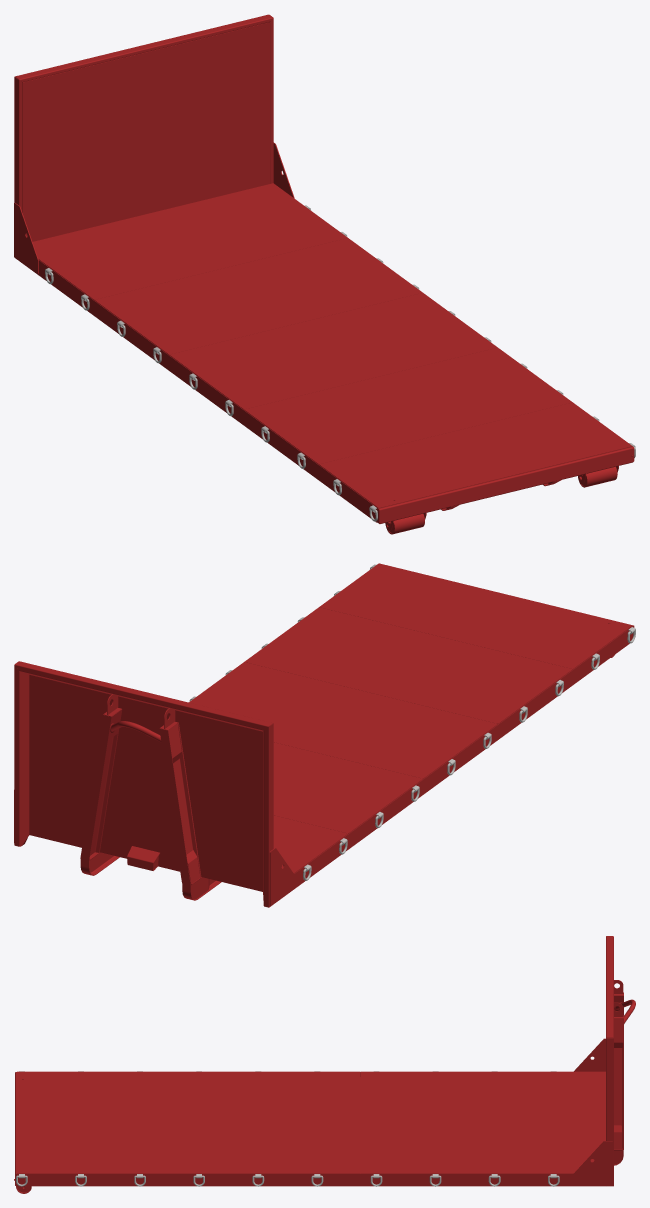
The picture shows the model from 3 angles, top to bottom: view 1: azimuth 30°, elevation 25°; view 2: azimuth 150°, elevation 25°; view 3: azimuth 270°, elevation 25°; orthographic projection. The views are drawn at different scales.
Visible parts, largest first — view 1: Solid1 (×10), Solid2; view 2: Solid1 (×15), Solid2 (×2); view 3: Solid1 (×10), Solid2.
Part boxes in pixels (x1,y1,x2,y2): Solid1 (×10): (14,14,634,523); Solid2: (19,260,378,523); Solid1 (×15): (14,563,632,907); Solid2 (×2): (159,626,633,903); Solid1 (×10): (17,936,623,1186); Solid2: (15,1173,605,1186).
Size of the model in its own units: 2.52 by 1.82 by 6.31.
